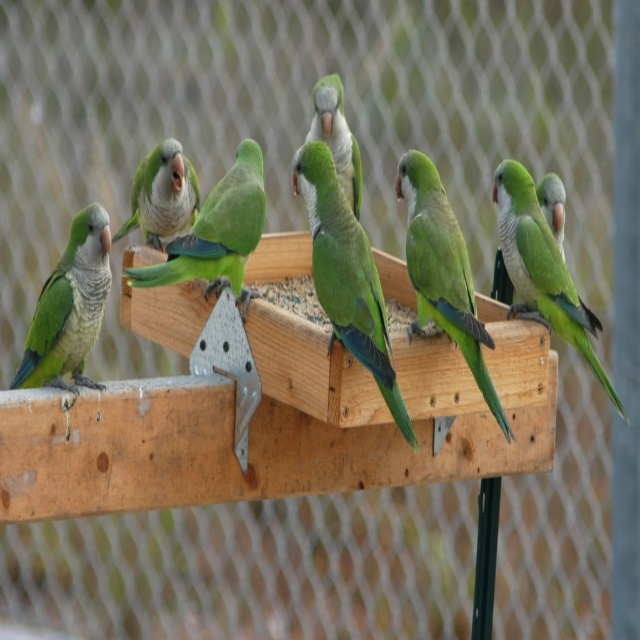Parrot: (488, 158, 628, 426), (293, 137, 416, 439), (392, 144, 509, 437), (15, 201, 114, 402), (110, 133, 204, 253), (189, 128, 266, 260), (304, 73, 362, 224), (527, 169, 571, 264)
